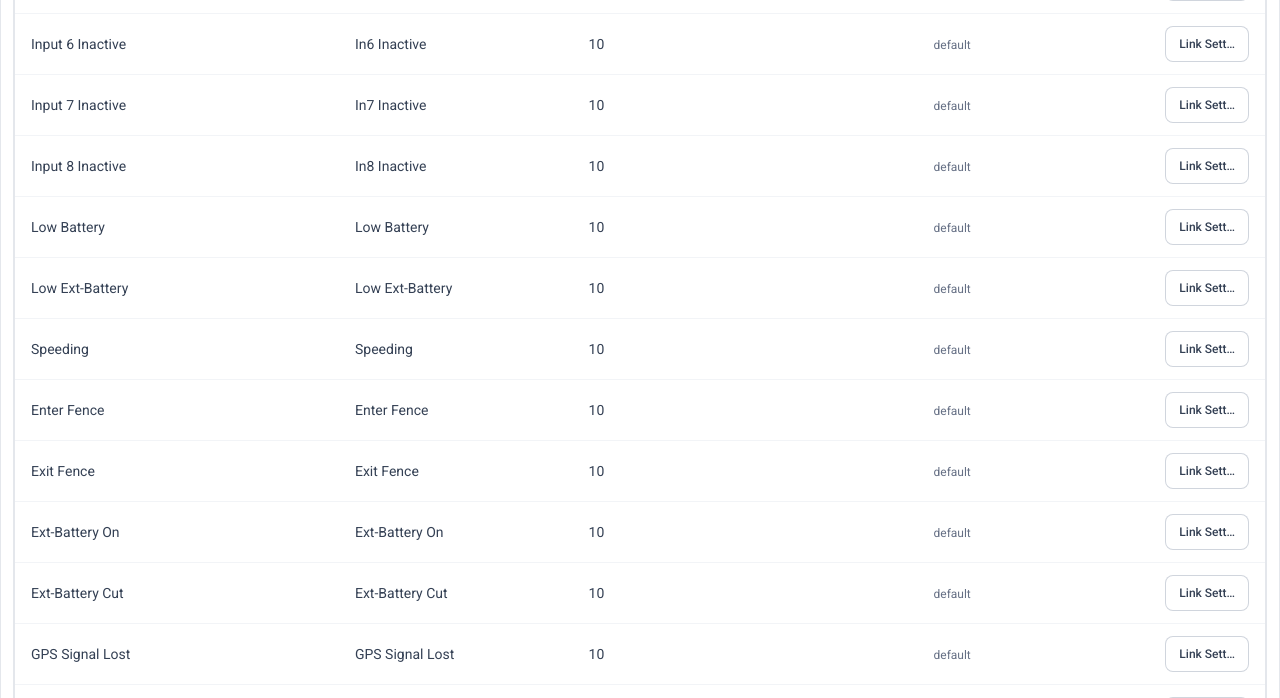
Test case: CommandCenterPage › opens Parameter alarm table for Meitrack protocol
This screenshot has width=1280, height=698.
(page scrolled)
Expected: the button with test id "alarm-link-sett-16" is shown, [1165, 148, 1249, 184]
Expected: the cell "Input 8 Inactive" is shown, [15, 136, 339, 196]
Click the button with test id "alarm-link-sett-19" at (1207, 349), box [1165, 331, 1249, 367]
(page scrolled)
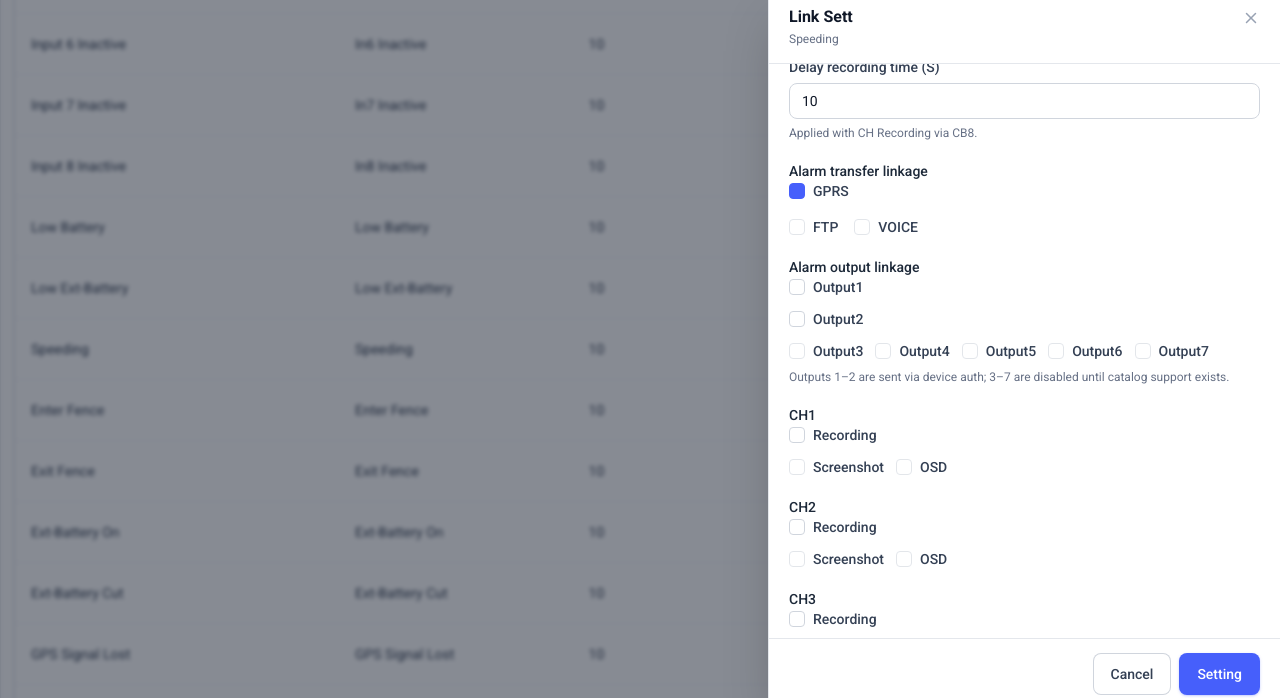
Result: the button with test id "alarm-link-sett-apply" is shown at [1179, 653, 1260, 695]
Result: the checkbox labelled "FTP" is disabled at [789, 219, 805, 235]
Result: the checkbox labelled "Output3" is disabled at [789, 343, 805, 359]
